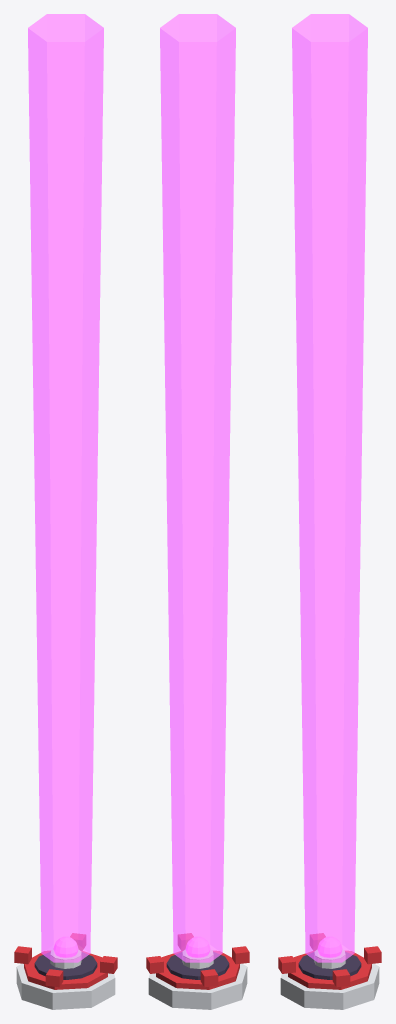
The model's file is RiftAnchor.glb.
The picture shows the model from 3 angles, left to right: view 1: azimuth 30°, elevation 25°; view 2: azimuth 150°, elevation 25°; view 3: azimuth 330°, elevation 25°; orthographic projection.
Parts seen in each view (by area): view 1: TeleportBeam, BaseWhite, BaseRedRing, BaseDarkInset, TeleportCore, CoreSocket, RedEmitter_3, RedEmitter_2, RedEmitter_4; view 2: TeleportBeam, BaseWhite, BaseRedRing, BaseDarkInset, TeleportCore, CoreSocket, RedEmitter_2, RedEmitter_3, RedEmitter_1; view 3: TeleportBeam, BaseWhite, BaseRedRing, BaseDarkInset, TeleportCore, CoreSocket, RedEmitter_4, RedEmitter_1, RedEmitter_3.
Boxes of the visible parts, x1,y1,x2,y2 form: TeleportBeam: (28, 14, 103, 962); BaseWhite: (16, 963, 115, 1009); BaseRedRing: (24, 951, 107, 989); BaseDarkInset: (34, 952, 97, 979); TeleportCore: (53, 936, 78, 957); CoreSocket: (50, 949, 81, 968); RedEmitter_3: (45, 969, 63, 987); RedEmitter_2: (14, 946, 31, 964); RedEmitter_4: (100, 956, 117, 973); TeleportBeam: (160, 14, 235, 962); BaseWhite: (148, 963, 247, 1009); BaseRedRing: (156, 951, 239, 989); BaseDarkInset: (166, 952, 229, 979); TeleportCore: (185, 936, 210, 957); CoreSocket: (182, 949, 213, 968); RedEmitter_2: (200, 969, 218, 987); RedEmitter_3: (232, 946, 249, 964); RedEmitter_1: (146, 956, 163, 973); TeleportBeam: (292, 14, 367, 962); BaseWhite: (280, 963, 379, 1009); BaseRedRing: (288, 951, 371, 989); BaseDarkInset: (298, 952, 361, 979); TeleportCore: (317, 936, 342, 957); CoreSocket: (314, 949, 345, 968); RedEmitter_4: (332, 969, 350, 987); RedEmitter_1: (364, 946, 381, 964); RedEmitter_3: (278, 956, 295, 973).
Bounding box in the file's own units: 0.3 × 3.12 × 0.3.
